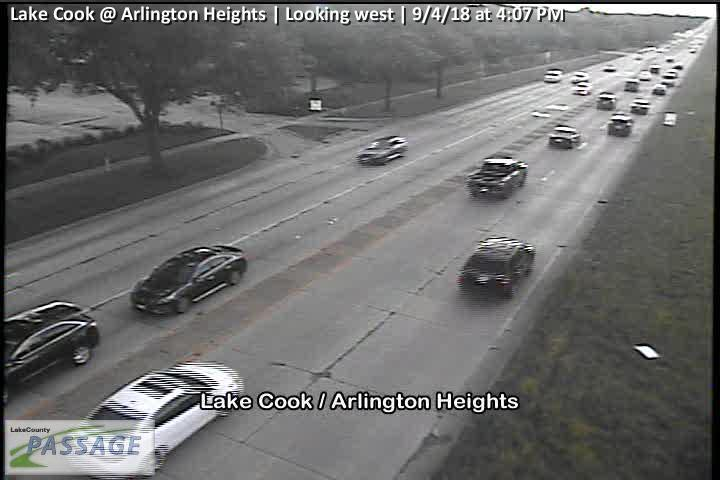SUV: (3, 300, 99, 403), (457, 236, 536, 300), (464, 157, 528, 198), (357, 135, 408, 164), (549, 124, 579, 150), (608, 113, 634, 135), (631, 98, 650, 115), (598, 92, 617, 109), (543, 69, 562, 82), (573, 81, 591, 94), (624, 78, 640, 91)
Sedan: (66, 360, 244, 480), (131, 245, 247, 318), (662, 72, 677, 85), (652, 84, 665, 95), (638, 70, 651, 80)
